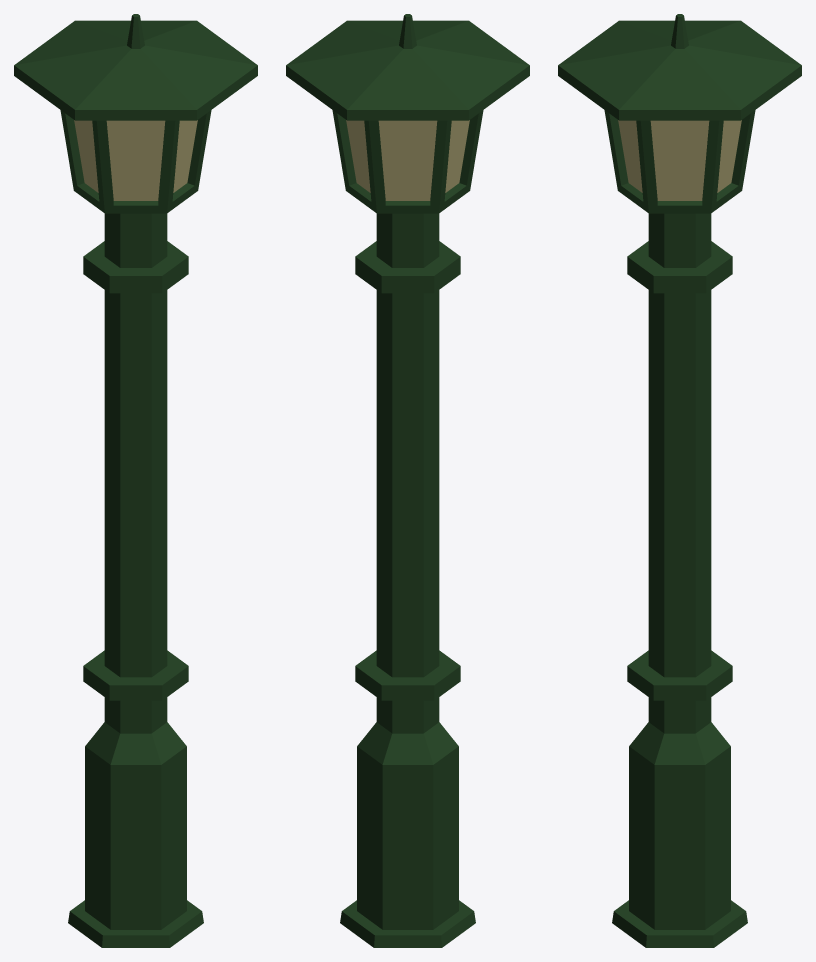
Rendered from jampre_vintage_street_light.fbx.
The picture shows the model from 3 angles, left to right: view 1: azimuth 30°, elevation 25°; view 2: azimuth 150°, elevation 25°; view 3: azimuth 270°, elevation 25°; orthographic projection.
Parts seen in each view (by area): view 1: Lantern; view 2: Lantern; view 3: Lantern.
Part boxes in pixels (left/top/right/bottom): Lantern: left=14, top=14, right=257, bottom=947; Lantern: left=286, top=14, right=529, bottom=947; Lantern: left=558, top=14, right=801, bottom=947.
Bounding box in the file's own units: 66.44 × 315 × 76.71.
